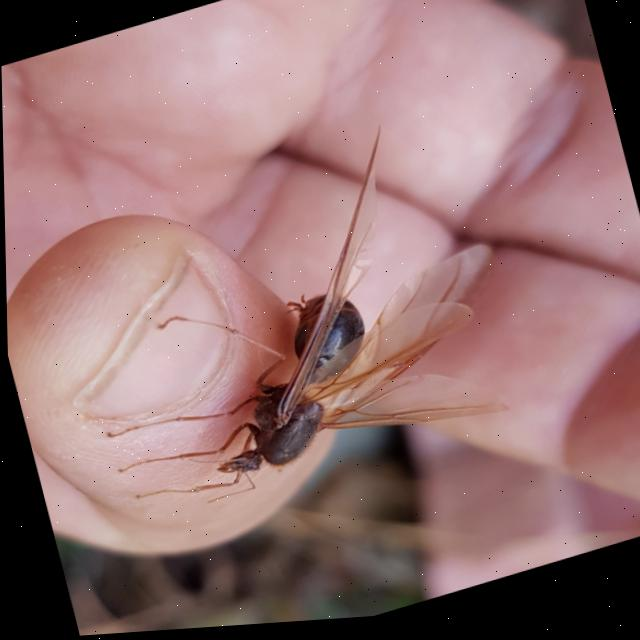Alive-Male-Alate: (48, 104, 533, 532)
